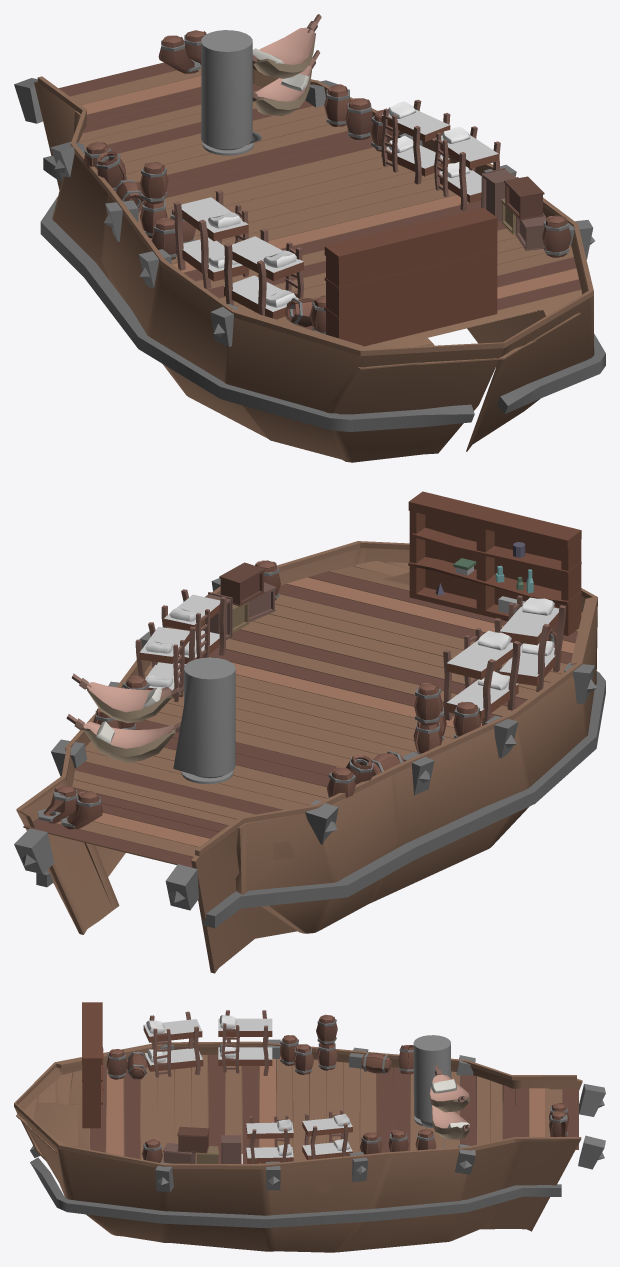
3 renders of one model, top to bottom at view 1: azimuth 30°, elevation 25°; view 2: azimuth 150°, elevation 25°; view 3: azimuth 270°, elevation 25°, orthographic. The views are drawn at different scales.
Parts seen in each view (by area): view 1: segment_2; view 2: segment_2; view 3: segment_2.
Boxes of the visible parts, x1,y1,x2,y2 form: segment_2: (14,14,605,462); segment_2: (14,491,605,973); segment_2: (14,1002,605,1252).
Bounding box in the file's own units: 33.44 × 18.93 × 60.88.
